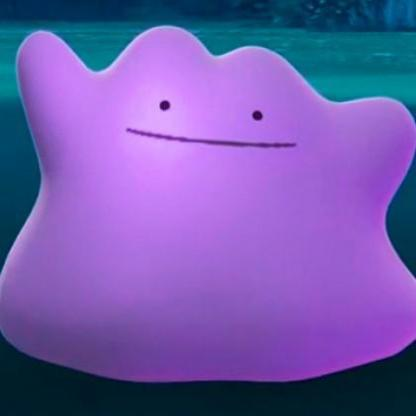Ditto: (1, 8, 416, 416)
